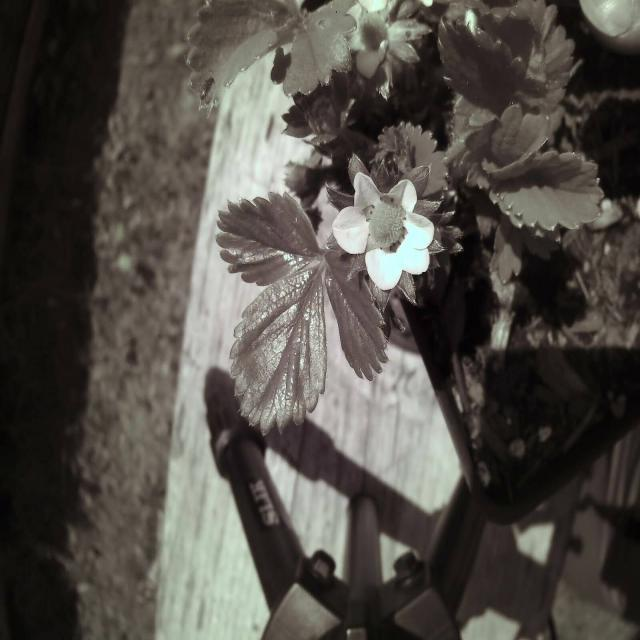flower: (332, 167, 438, 300)
